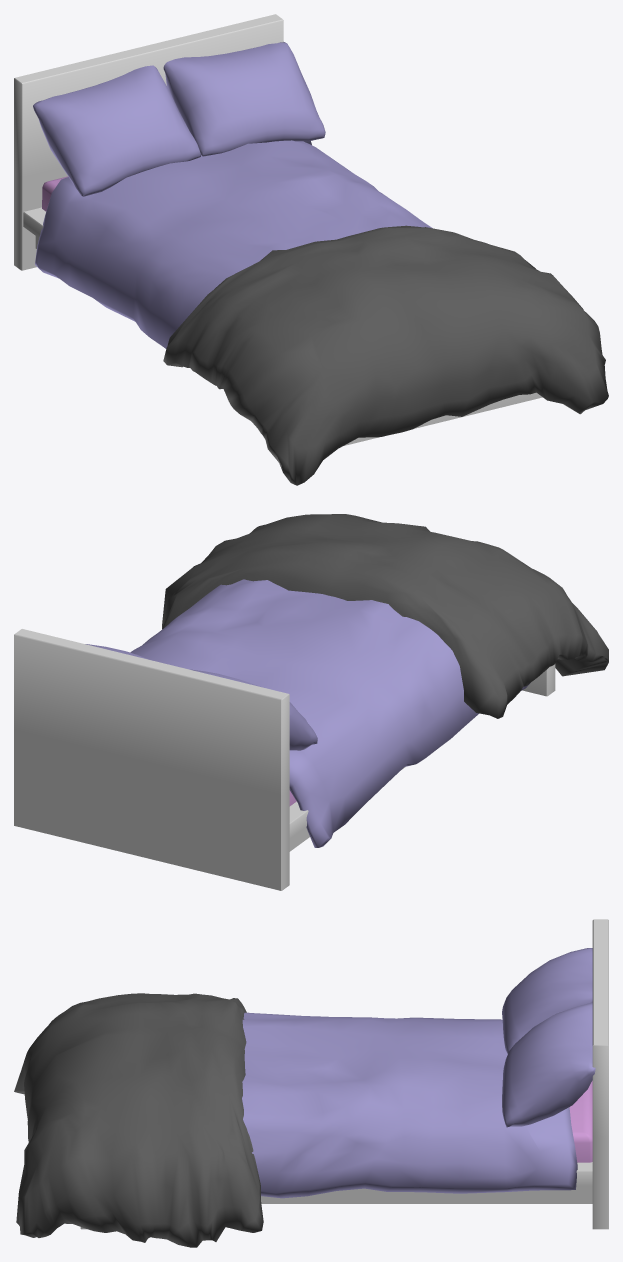
Rendered from MalmBedFrameYR.FBX.
3 views of the same model, one above another, from view 1: azimuth 30°, elevation 25°; view 2: azimuth 150°, elevation 25°; view 3: azimuth 270°, elevation 25° (orthographic). The views are drawn at different scales.
Parts seen in each view (by area): view 1: MalmBedFrameYR; view 2: MalmBedFrameYR; view 3: MalmBedFrameYR.
Boxes of the visible parts, box(x1,y1,x2,y2) form: MalmBedFrameYR: box(14, 14, 608, 485); MalmBedFrameYR: box(14, 514, 608, 890); MalmBedFrameYR: box(14, 919, 608, 1247).
Size of the model in its own units: 156 by 225 by 77.
